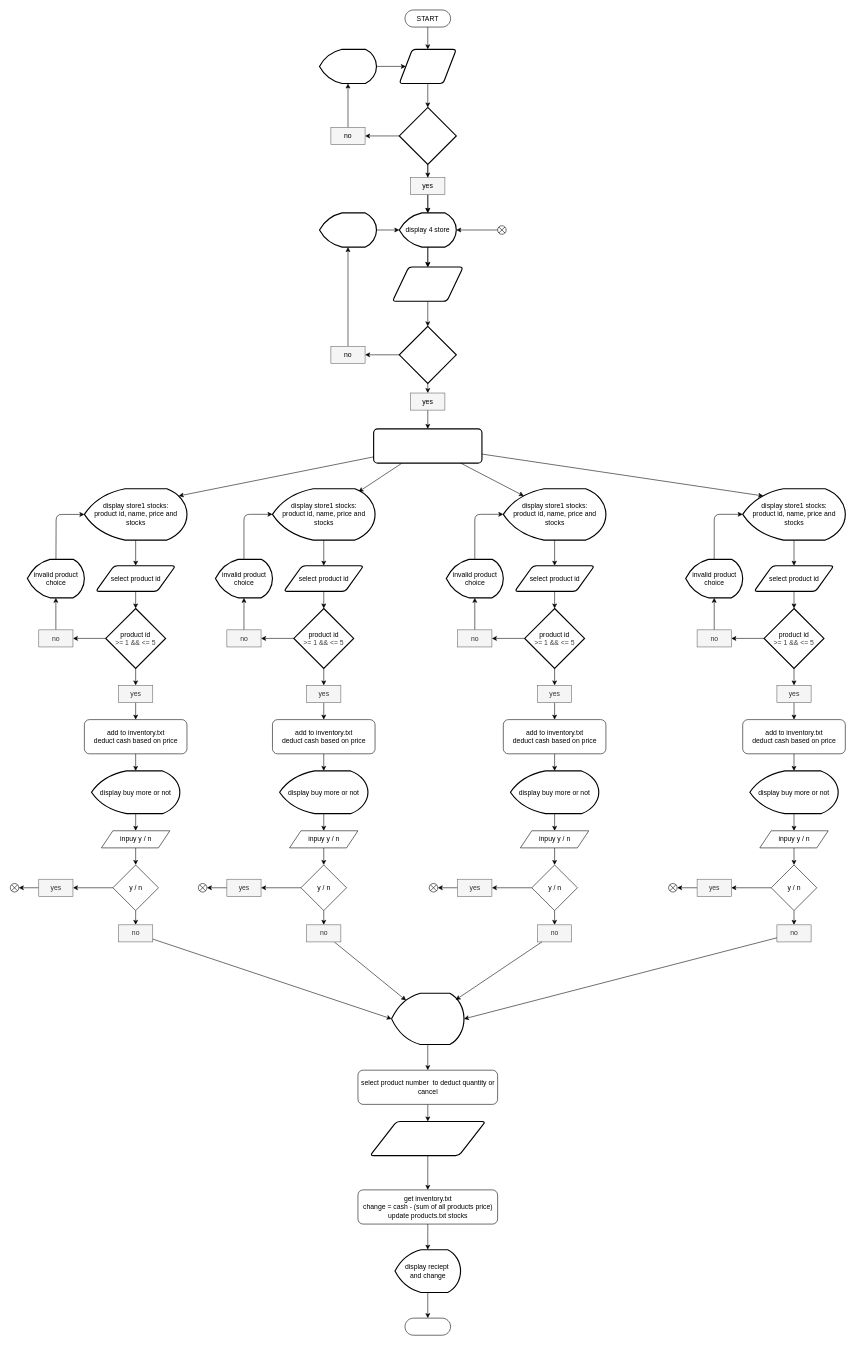
This 856x1345 diagram has some shape labels left out. Here are the shapes that lost their labels. From the top down, the centre of each, then its label:
the point at 348,66: enter 500 cash
the point at 427,66: input 500 cash
the point at 427,136: cash == 500
the point at 348,229: invalid store choice
the point at 427,284: select store
the point at 427,354: store number >= 1 && <= 4
the point at 427,445: process the store choice get store stock from products.txt
the point at 427,1018: display temporary receipt
the point at 427,1138: input product number
the point at 427,1326: END
